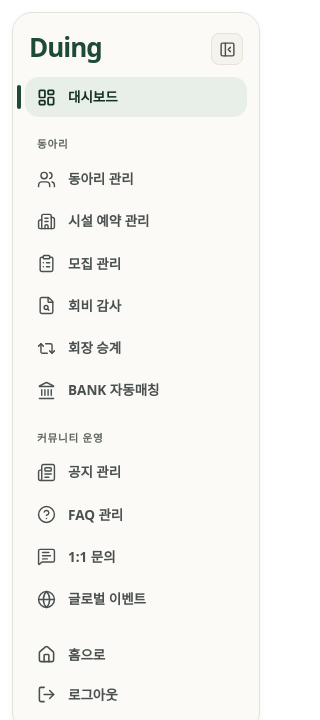
AdminSidebar › 접힌 상태에서 부모를 누르면 사이드바가 펼쳐지며 자식 메뉴에 도달할 수 있다
The width and height of the screenshot is (320, 720).
Click the button named "사이드바 접기".
click(227, 49)  # box [211, 33, 243, 65]
(page scrolled)
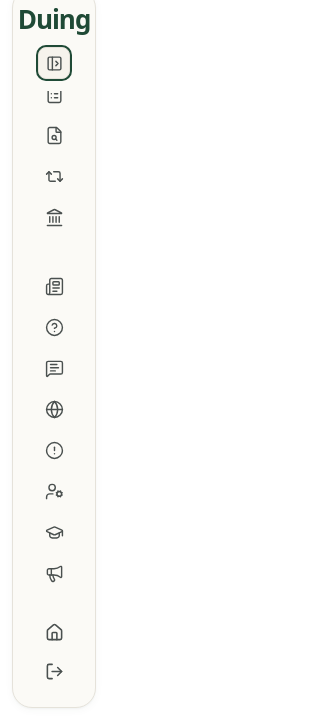
Expected: the link "홍보 요청" is not shown
Click the button named "홍보 관리".
click(54, 574)  # box [25, 554, 83, 593]
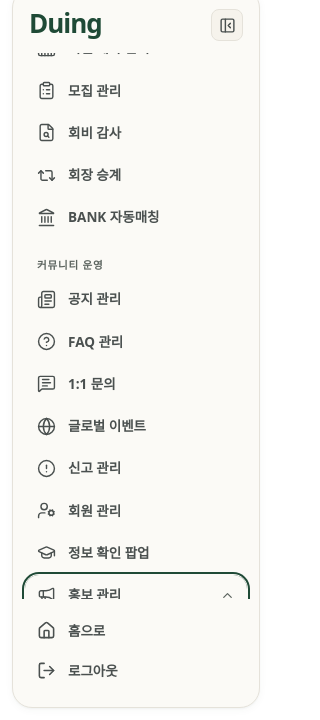
Result: the button named "사이드바 접기" is shown at [211, 9, 243, 41]
